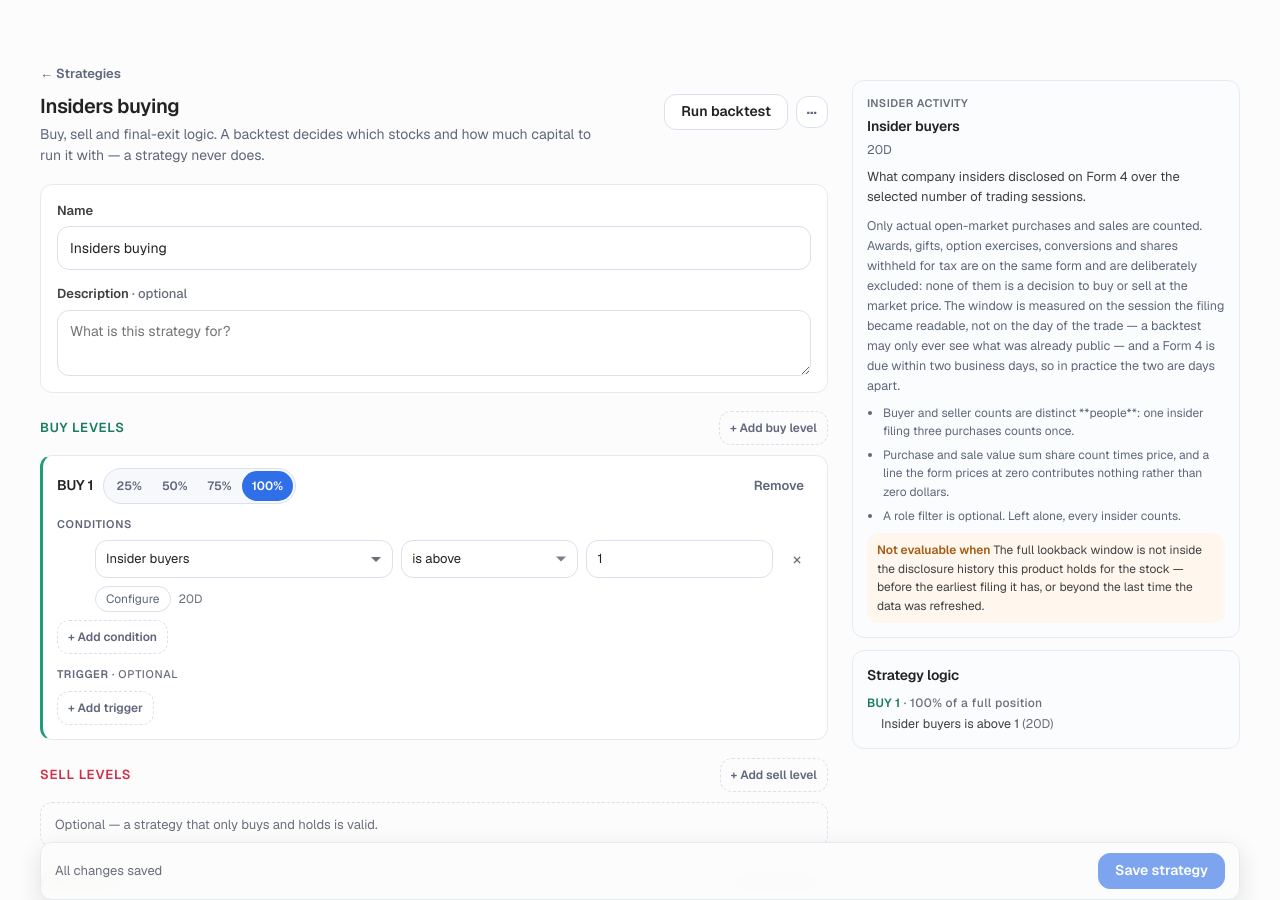
Test: the configuration surface › offers an insider role filter and no scope, because V1 has no insider groups
expect the list item with test id "predicate-row" is shown: met, box [57,540,813,612]
Click the button with test id "operand-config-button" at (133, 599), box [95,586,171,612]
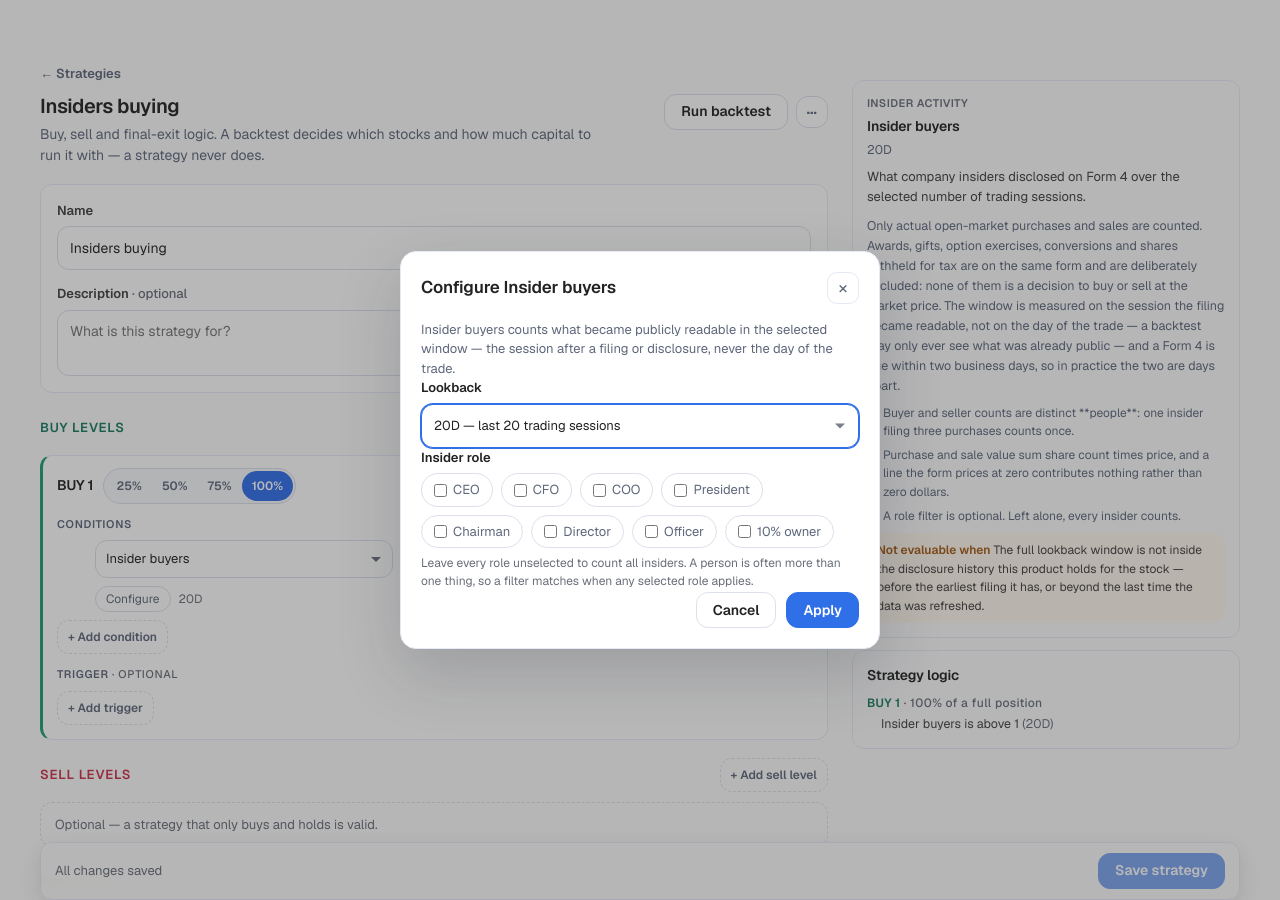
Click the checkbox labelled "Director" at (551, 532), box [544,525,557,538]
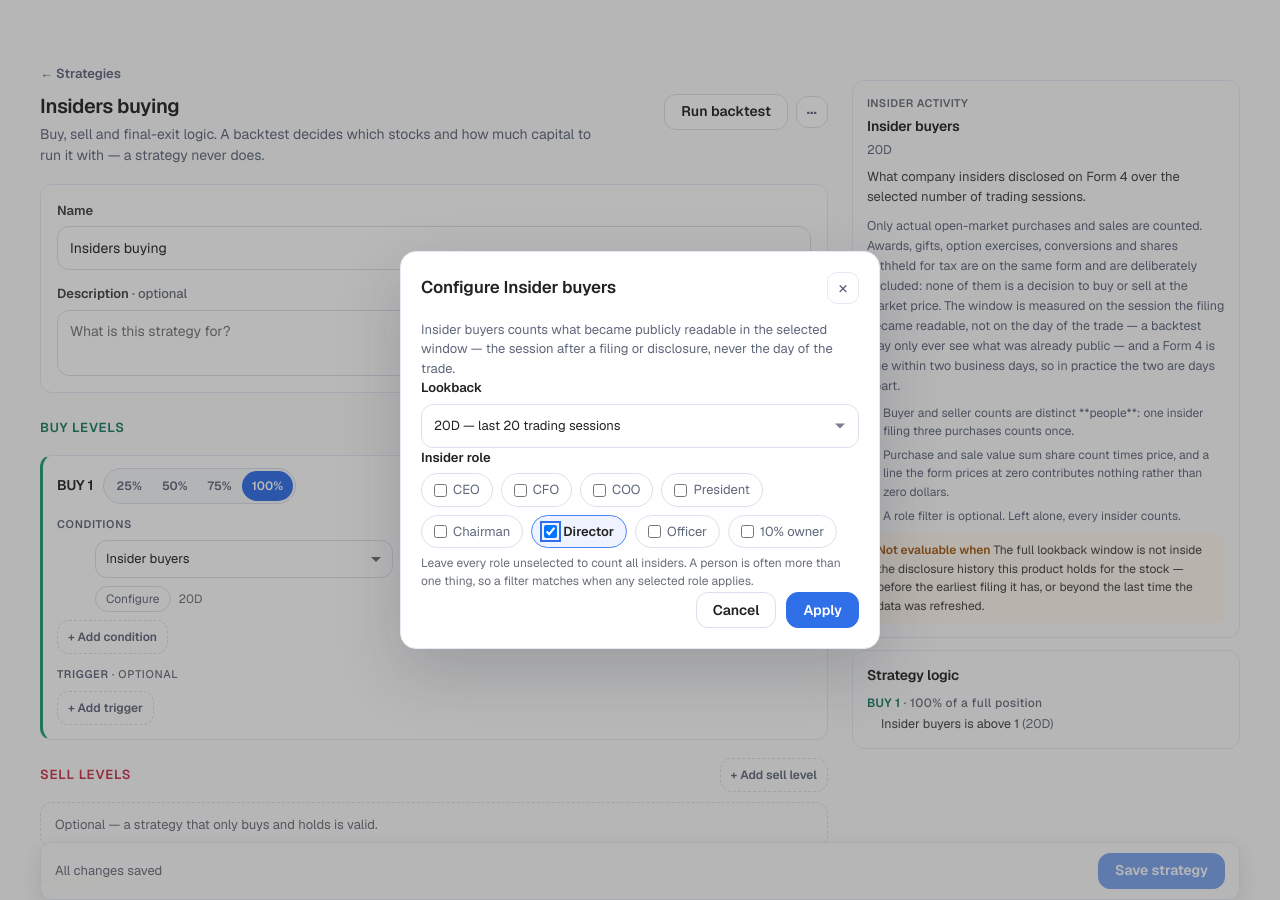
Click the checkbox labelled "CEO" at (440, 490), box [434,484,447,496]
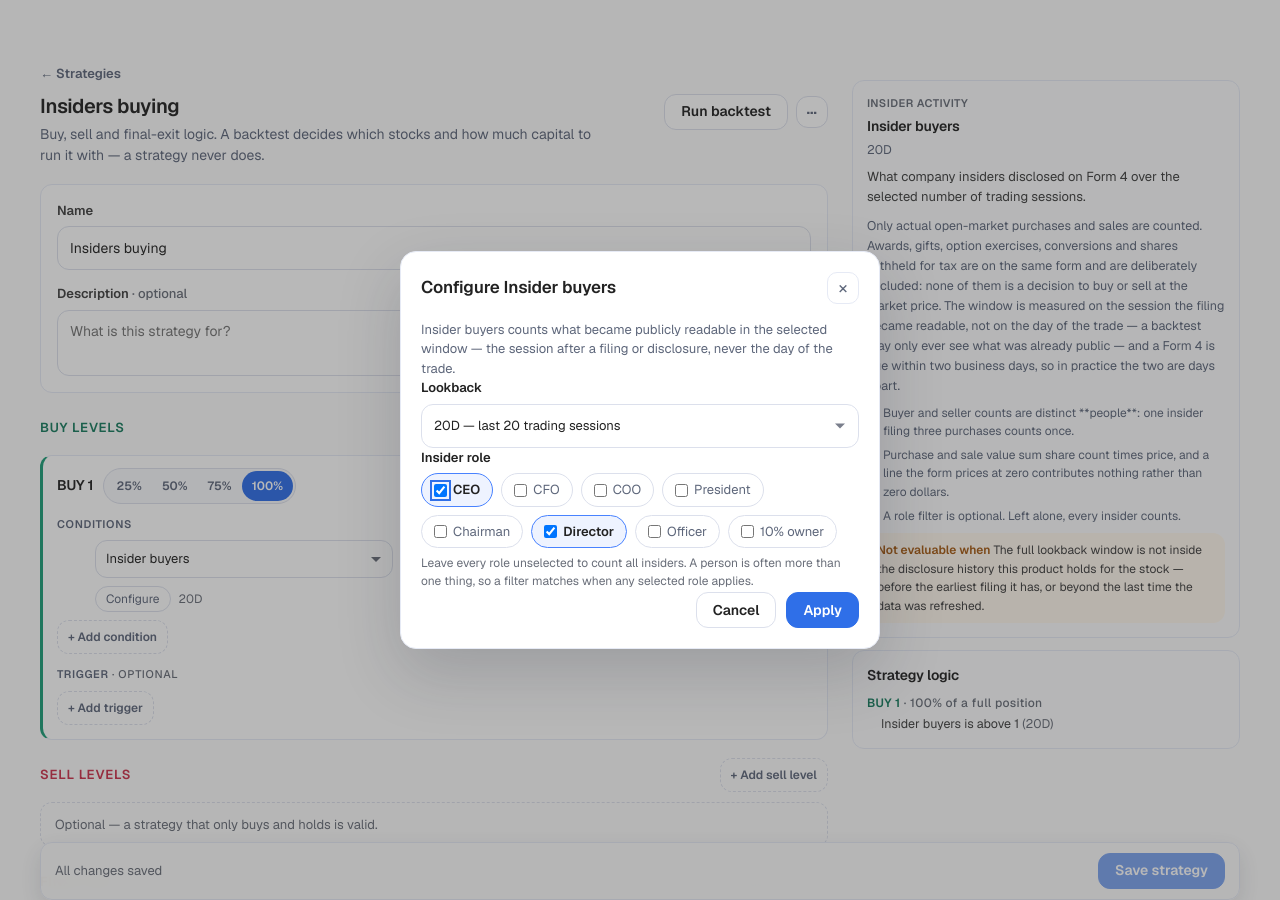
Click the button with test id "alternative-data-config-apply" at (823, 610), box [786,592,859,628]
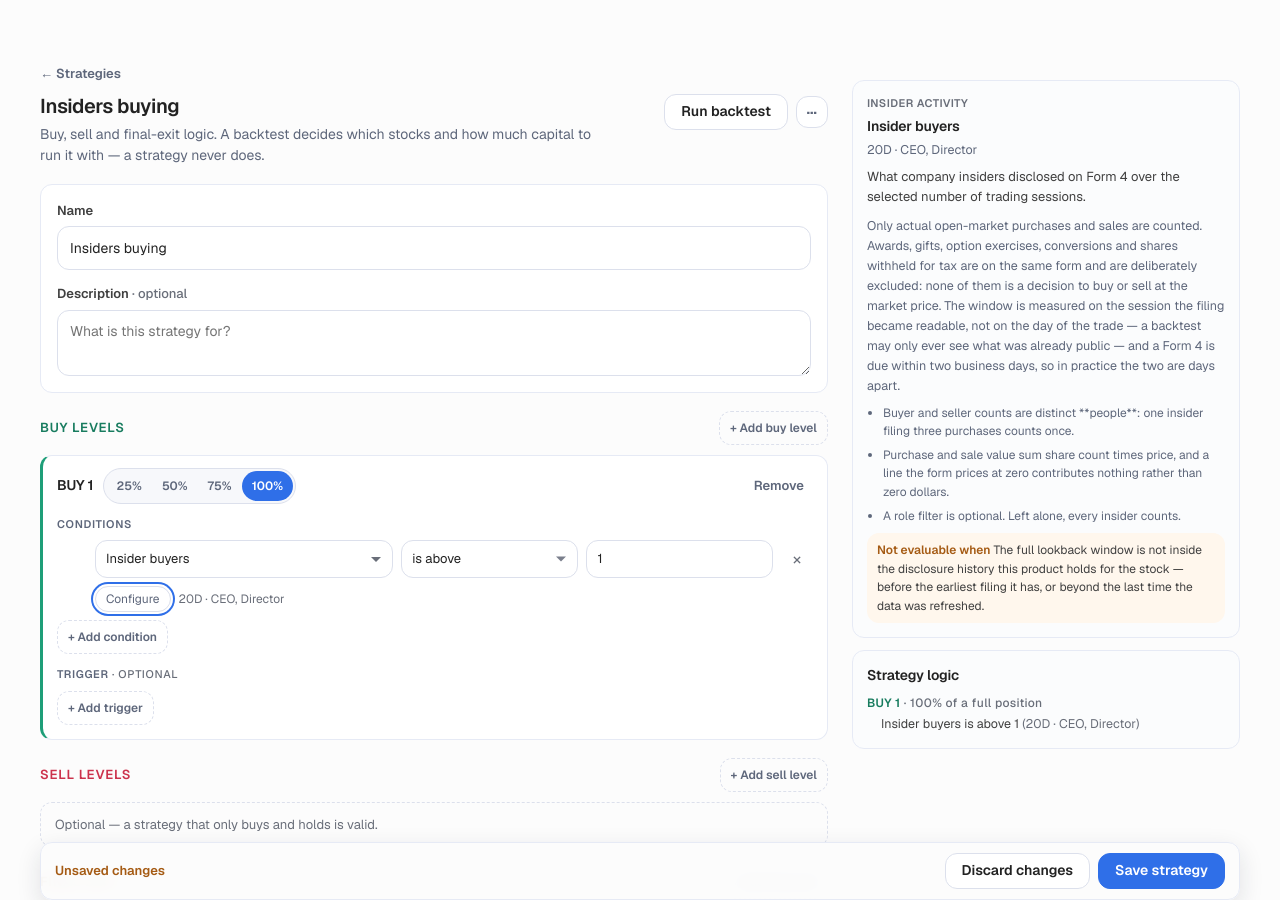
expect the dialog with test id "alternative-data-config" is gone: met
expect the text with test id "operand-configuration-summary" reads "20D · CEO, Director": met, box [179,591,285,607]
